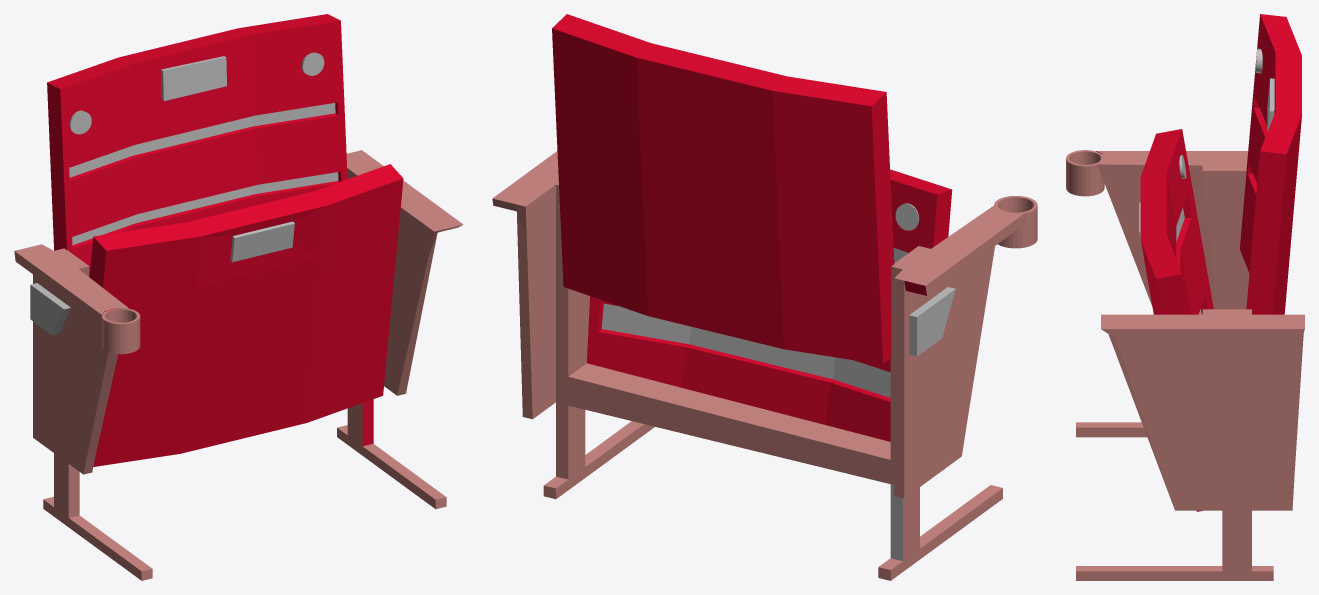
The model's file is StadiumChair.fbx.
3 views of the same model, side by side, from view 1: azimuth 30°, elevation 25°; view 2: azimuth 150°, elevation 25°; view 3: azimuth 270°, elevation 25° (orthographic). The views are drawn at different scales.
Parts seen in each view (by area): view 1: Cube; view 2: Cube; view 3: Cube.
Boxes of the visible parts, x1=… form: Cube: x1=14, y1=14, x2=463, y2=580; Cube: x1=492, y1=14, x2=1037, y2=580; Cube: x1=1066, y1=14, x2=1304, y2=580.
Size of the model in its own units: 508 by 558 by 285.
